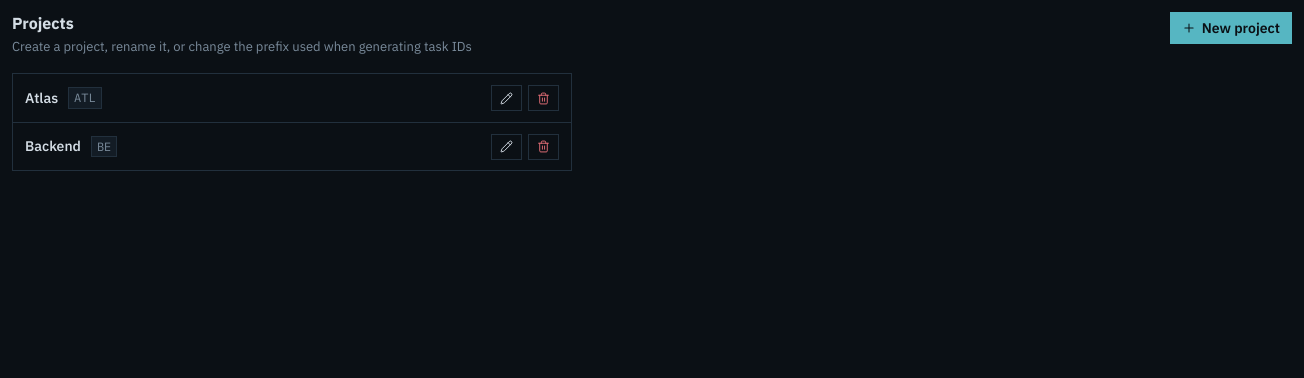
it: ProjectsPanel — edit flow › shows a note about new-tasks-only prefix semantics in edit mode
Click the button with class "atl-rowact" in the row of "Atlas" at (506, 98), box [491,85,522,111]
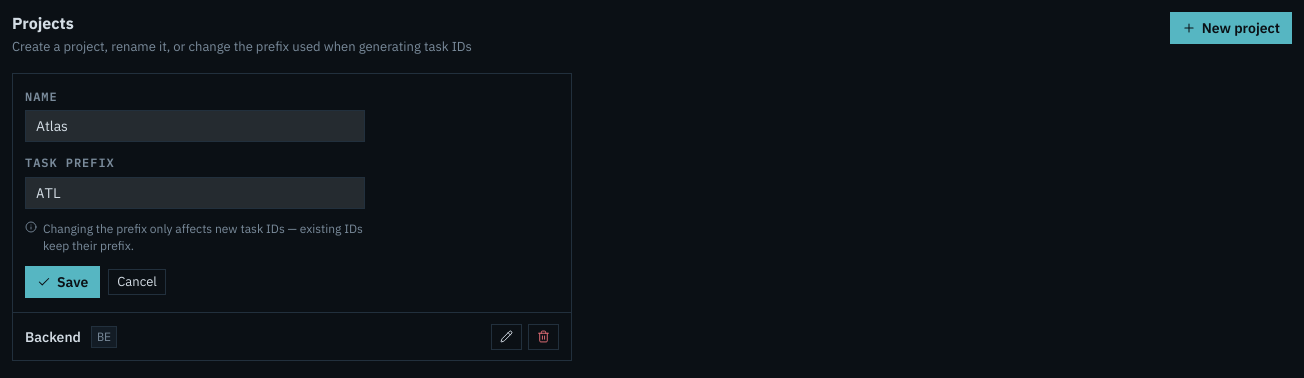
Now the element with class "atl-prefix-note" is shown, box [25,221,365,254]
Now the element with class "atl-prefix-note" shows "existing IDs keep their prefix", box [43,221,363,253]
